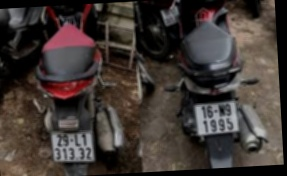Bien-so: (193, 99, 240, 137), (49, 129, 96, 165), (161, 6, 182, 27)
